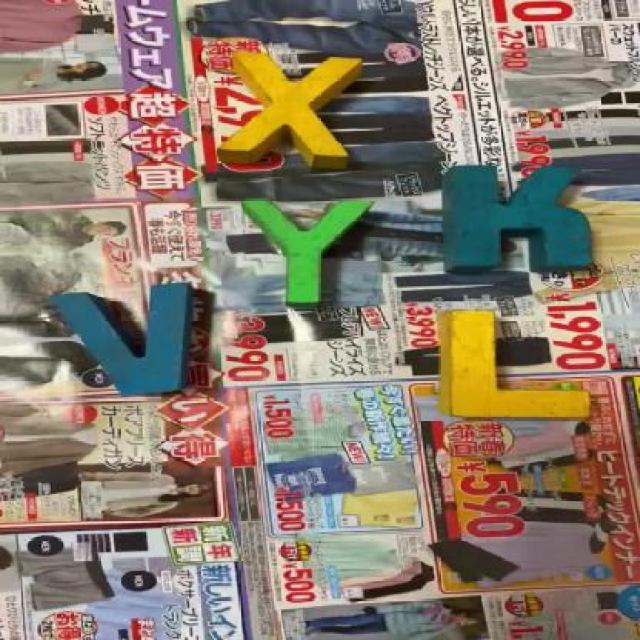K: (448, 168, 588, 275)
L: (443, 310, 588, 419)
V: (47, 284, 196, 391)
X: (223, 52, 355, 168)
Y: (242, 200, 381, 308)
